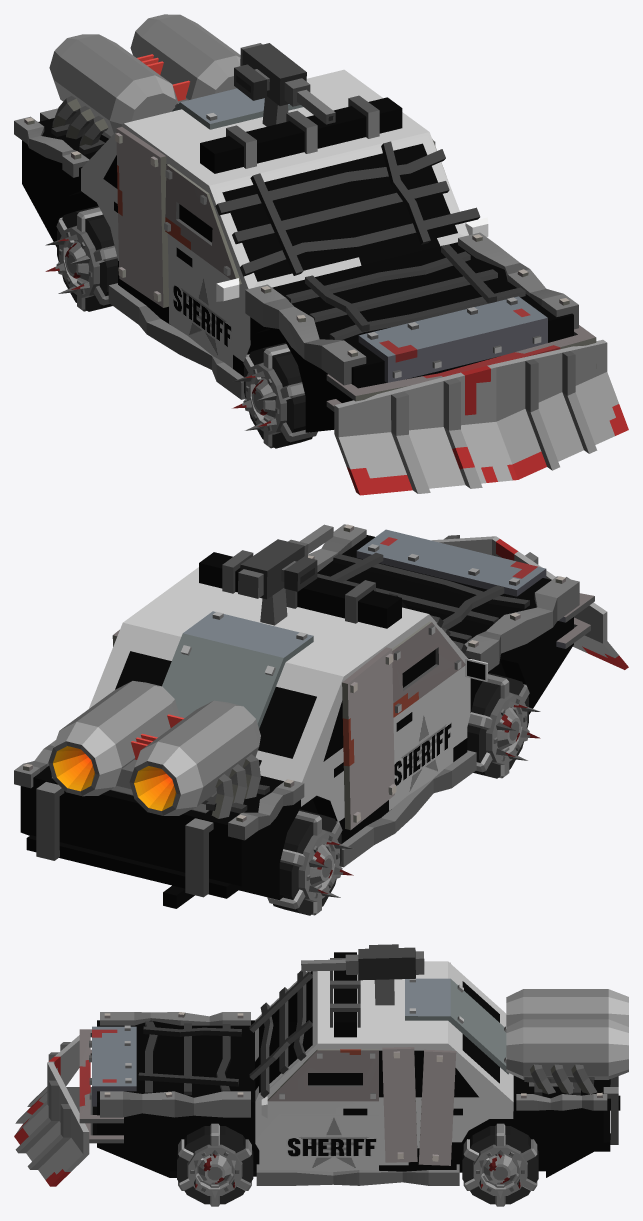
Rendered from 02_SA_Veh_SheriffCar.glb.
The picture shows the model from 3 angles, top to bottom: view 1: azimuth 30°, elevation 25°; view 2: azimuth 150°, elevation 25°; view 3: azimuth 270°, elevation 25°; orthographic projection. The views are drawn at different scales.
Visible parts, largest first — view 1: Body, armor_5, Nitro, armor_2_part_C 3, armor_1, armor_2_part_B 7, armor_4_part_C_R 2, gun, Wheel_B_1gr (×2), armor_3_part_C_R 3, armor_4_part_B_R 6, Wheel_B_3gr (×2) (+5 smaller); view 2: Body, Nitro, armor_3_part_A 4, armor_2_part_C 3, armor_4_part_C_R 2, armor_1, gun, armor_2_part_A 8, Wheel_B_1gr (×2), armor_3_part_C_R 3, armor_4_part_B_R 6, armor_5 (+6 smaller); view 3: Body, Nitro, armor_2_part_C 3, armor_4_part_C_L 2, armor_5, armor_1, armor_3_part_A 4, Wheel_B_1gr (×2), armor_3_part_C_L 3, gun, armor_2_part_B 7, armor_4_part_B_L 6 (+6 smaller).
Part boxes in pixels (x1,y1,x2,y2): Body: (22, 69, 573, 432); armor_5: (334, 339, 628, 495); Nitro: (49, 14, 240, 145); armor_2_part_C 3: (245, 232, 578, 385); armor_1: (326, 296, 596, 411); armor_2_part_B 7: (215, 141, 480, 276); armor_4_part_C_R 2: (115, 127, 169, 307); gun: (234, 43, 335, 126); Wheel_B_1gr (×2): (59, 225, 286, 434); armor_3_part_C_R 3: (164, 164, 241, 284); armor_4_part_B_R 6: (108, 283, 245, 399); Wheel_B_3gr (×2): (56, 207, 317, 448); Body: (20, 535, 573, 908); Nitro: (48, 681, 260, 818); armor_3_part_A 4: (162, 611, 313, 728); armor_2_part_C 3: (308, 524, 579, 671); armor_4_part_C_R 2: (342, 647, 396, 830); armor_1: (356, 529, 594, 648); gun: (238, 524, 333, 625); armor_2_part_A 8: (36, 782, 269, 897); Wheel_B_1gr (×2): (298, 692, 527, 901); armor_3_part_C_R 3: (392, 621, 465, 717); armor_4_part_B_R 6: (340, 750, 476, 867); armor_5: (431, 535, 628, 669); Body: (92, 952, 620, 1177); Nitro: (506, 989, 628, 1094); armor_2_part_C 3: (100, 1012, 250, 1117); armor_4_part_C_L 2: (382, 1047, 456, 1165); armor_5: (14, 1035, 92, 1186); armor_1: (79, 1025, 136, 1143); armor_3_part_A 4: (405, 978, 508, 1074); Wheel_B_1gr (×2): (187, 1144, 527, 1195); armor_3_part_C_L 3: (267, 1049, 378, 1101); gun: (301, 944, 424, 1005); armor_2_part_B 7: (249, 970, 312, 1097); armor_4_part_B_L 6: (256, 1164, 459, 1185).
Size of what is drawn, in the model's own units: 3.49 by 3.23 by 8.55.
1 material, 1 textured.
